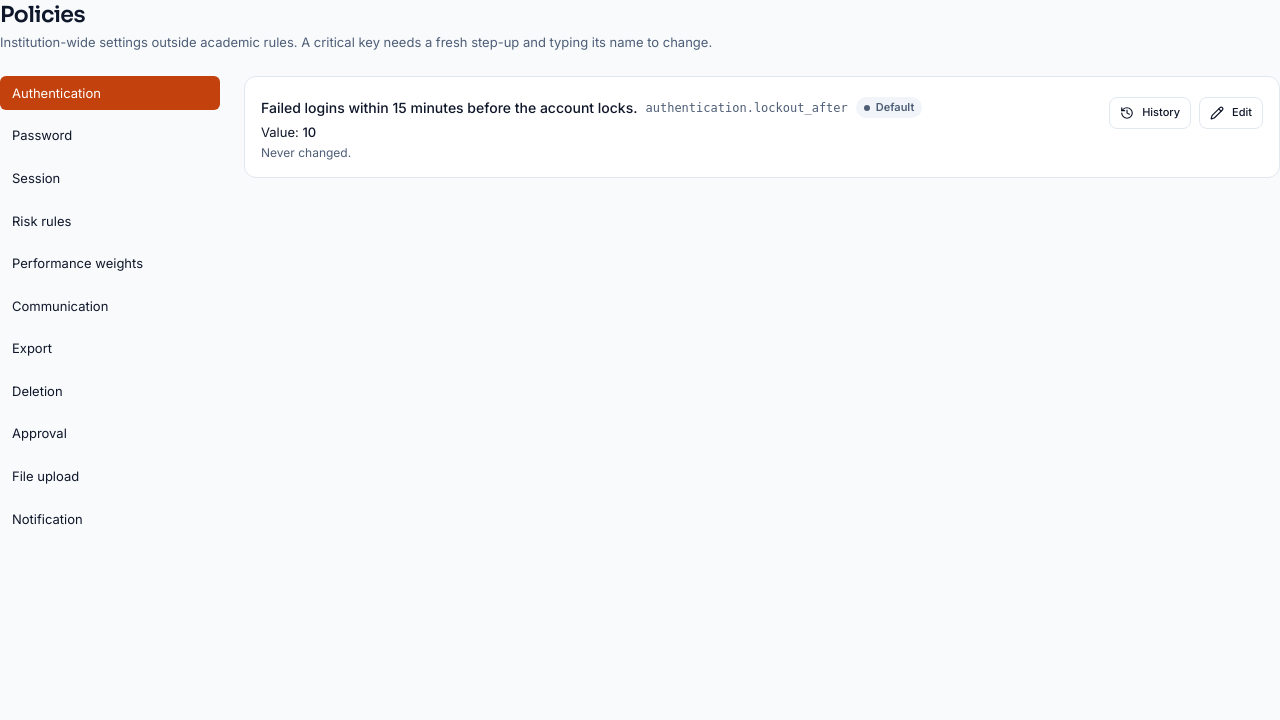
Test: PoliciesScreen › shows a key's history, newest first
This screenshot has width=1280, height=720.
Click the button "History".
click(1150, 113)  # box [1109,97,1191,129]
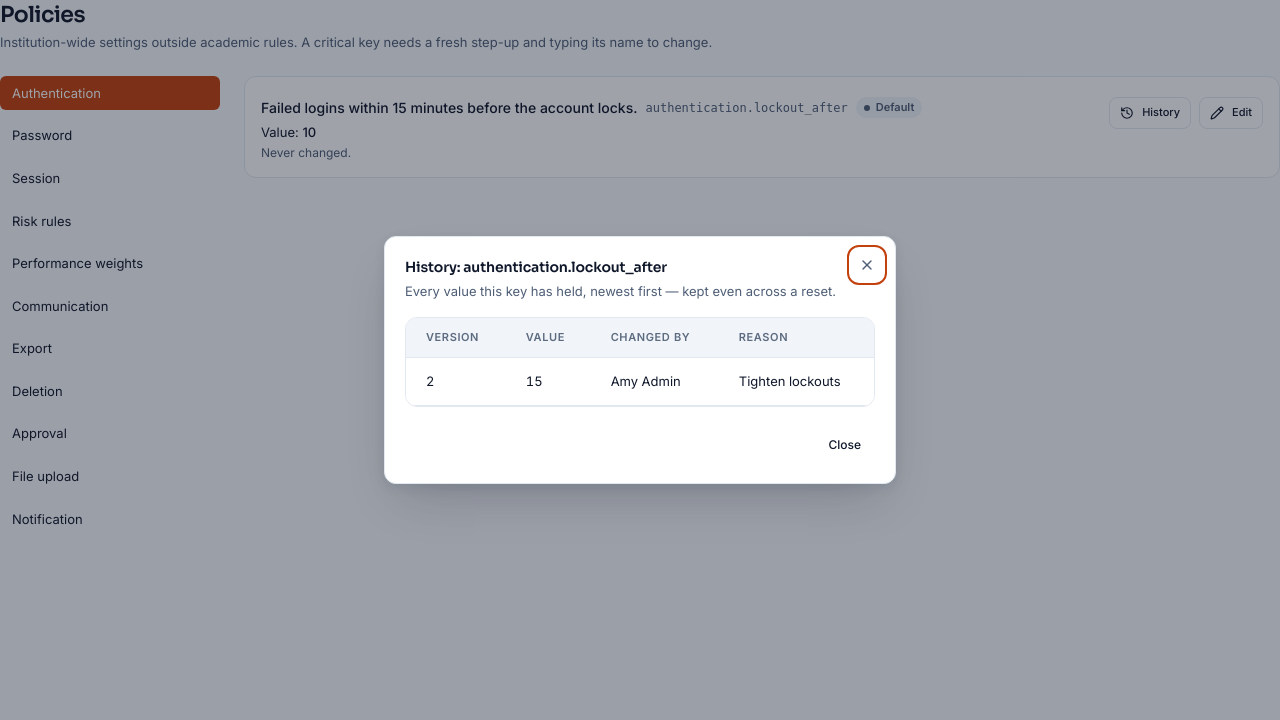
Expected: the heading "History: authentication.lockout_after" is shown, [405,258,667,276]
Expected: the text "Amy Admin" is shown, [591,358,719,405]
Expected: the text "Tighten lockouts" is shown, [719,358,871,405]
